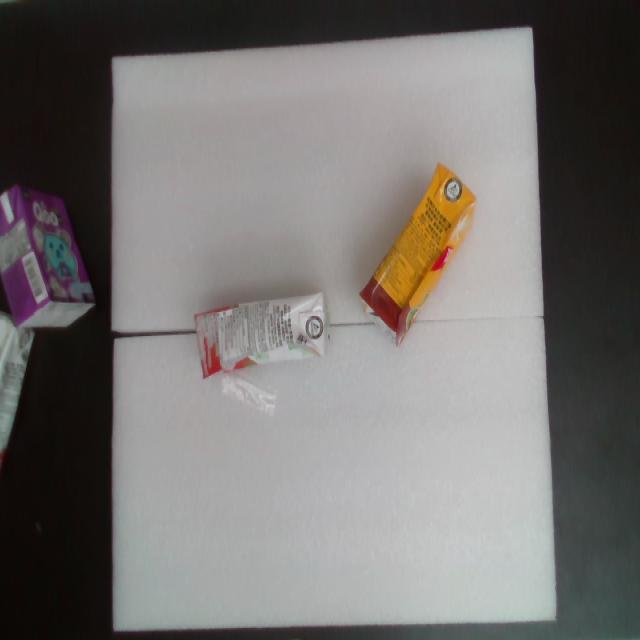juicebox: (331, 151, 505, 362), (174, 269, 350, 413)
